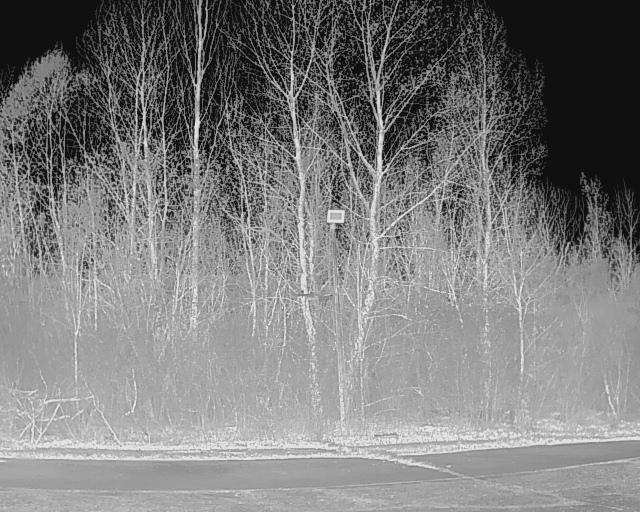drone: (285, 277, 338, 316)
